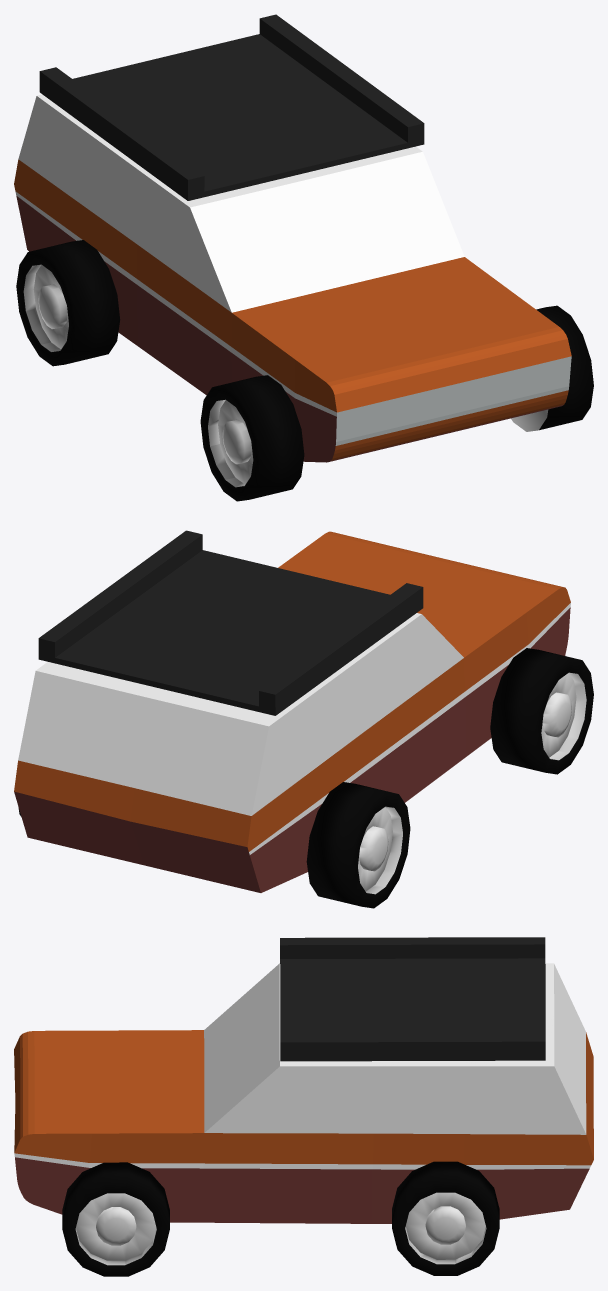
Rendered from car.glb.
The picture shows the model from 3 angles, top to bottom: view 1: azimuth 30°, elevation 25°; view 2: azimuth 150°, elevation 25°; view 3: azimuth 270°, elevation 25°; orthographic projection. The views are drawn at different scales.
Parts seen in each view (by area): view 1: Wheel front; view 2: Wheel front; view 3: Wheel front.
Boxes of the visible parts, x1,y1,x2,y2 form: Wheel front: [14, 14, 593, 501]; Wheel front: [14, 530, 593, 908]; Wheel front: [14, 937, 593, 1276].
Bounding box in the file's own units: 2.04 × 1.39 × 3.41.
